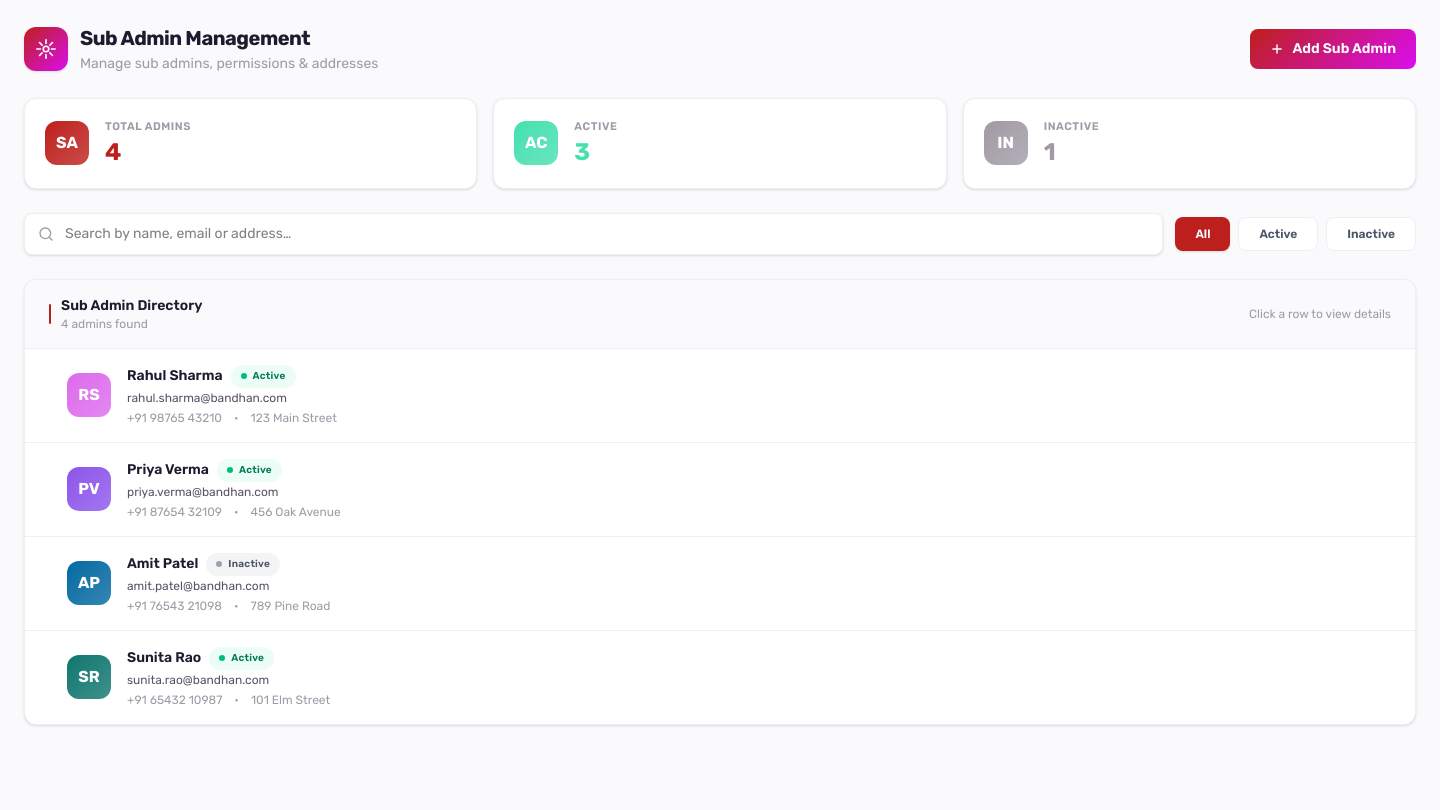
Test: SubAdminManagement Component › should open the Add Sub Admin drawer when clicking the button
Note: Initial state: Add button is visible
What coordinates should you click on to do the following:
click the button "Add Sub Admin"
I would click on:
 (1333, 49)
Its box is x1=1250 y1=29 x2=1416 y2=69.
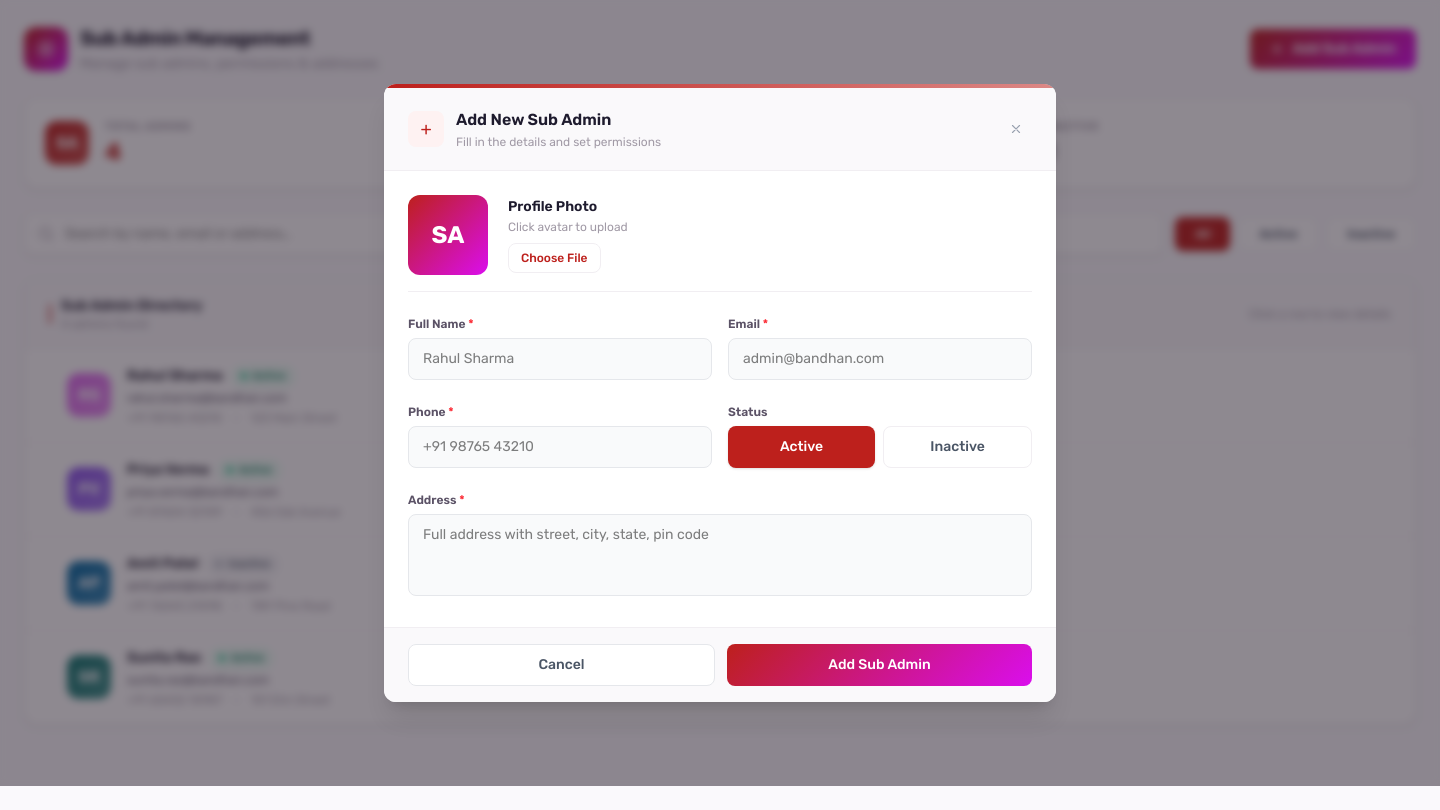
Check: the field with placeholder "Rahul Sharma" is shown, box x1=408 y1=338 x2=712 y2=380
Check: the field with placeholder "admin@bandhan.com" is shown, box x1=728 y1=338 x2=1032 y2=380
